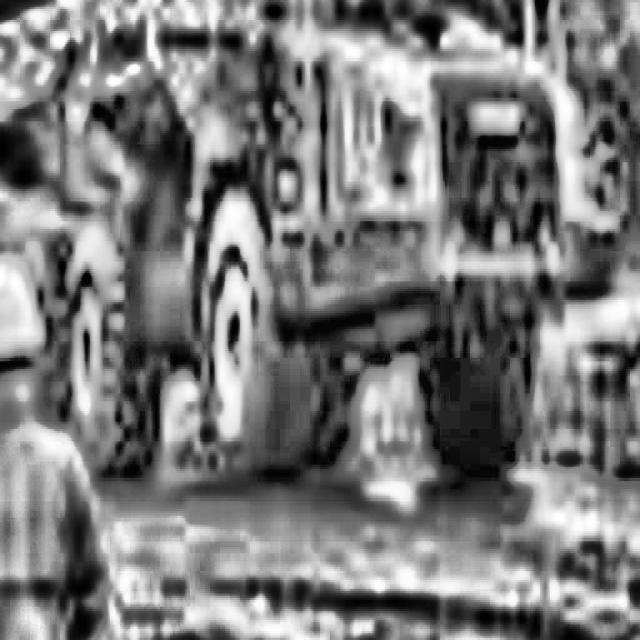dump_truck: (0, 0, 609, 544)
